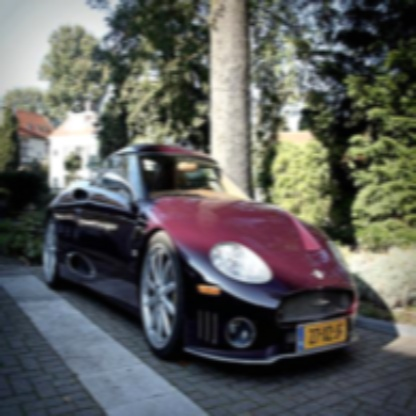Vehicle: (43, 142, 360, 370)
